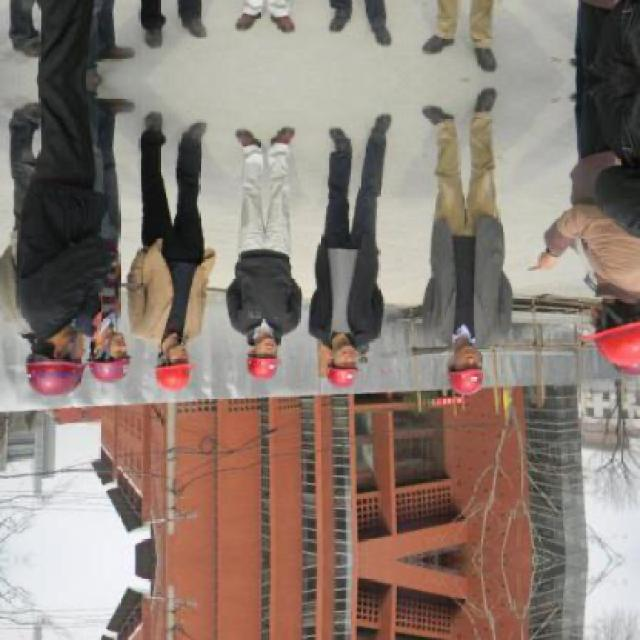con casco: (454, 316, 532, 424), (19, 310, 85, 402), (589, 300, 640, 380), (70, 327, 122, 388), (135, 340, 198, 388), (234, 338, 278, 391), (339, 360, 366, 410)
